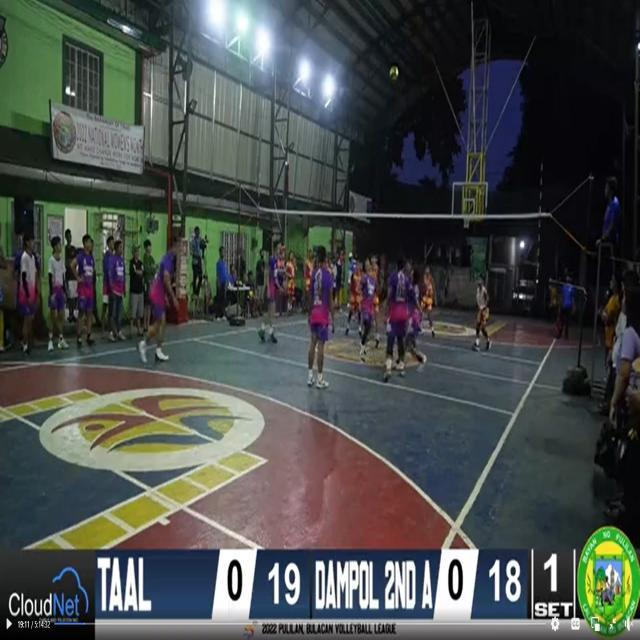volleyball: (388, 66, 399, 80)
